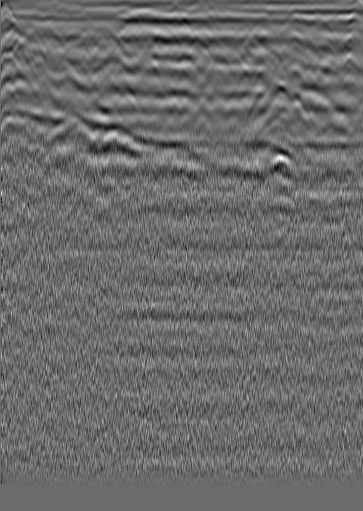가스: (260, 150, 300, 185)
상수: (6, 35, 26, 55)
오수: (315, 20, 335, 40)
우수: (165, 30, 185, 50)
